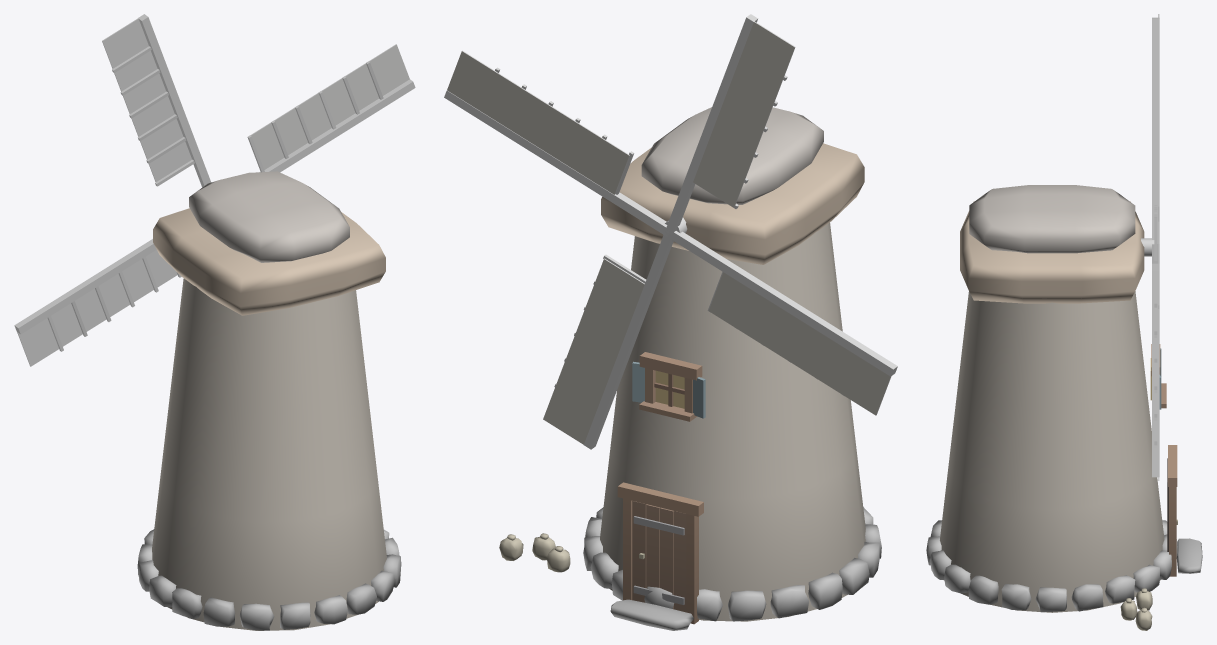
The model's file is hw_medieval_mill.glb.
3 renders of one model, left to right at view 1: azimuth 30°, elevation 25°; view 2: azimuth 150°, elevation 25°; view 3: azimuth 270°, elevation 25°, orthographic. The views are drawn at different scales.
Parts seen in each view (by area): view 1: Building; view 2: Building; view 3: Building.
Boxes of the visible parts, left/top/right/bottom form: Building: left=14, top=14, right=415, bottom=630; Building: left=444, top=14, right=897, bottom=630; Building: left=926, top=14, right=1202, bottom=630.
Bounding box in the file's own units: 5.67 × 7.39 × 3.6.
